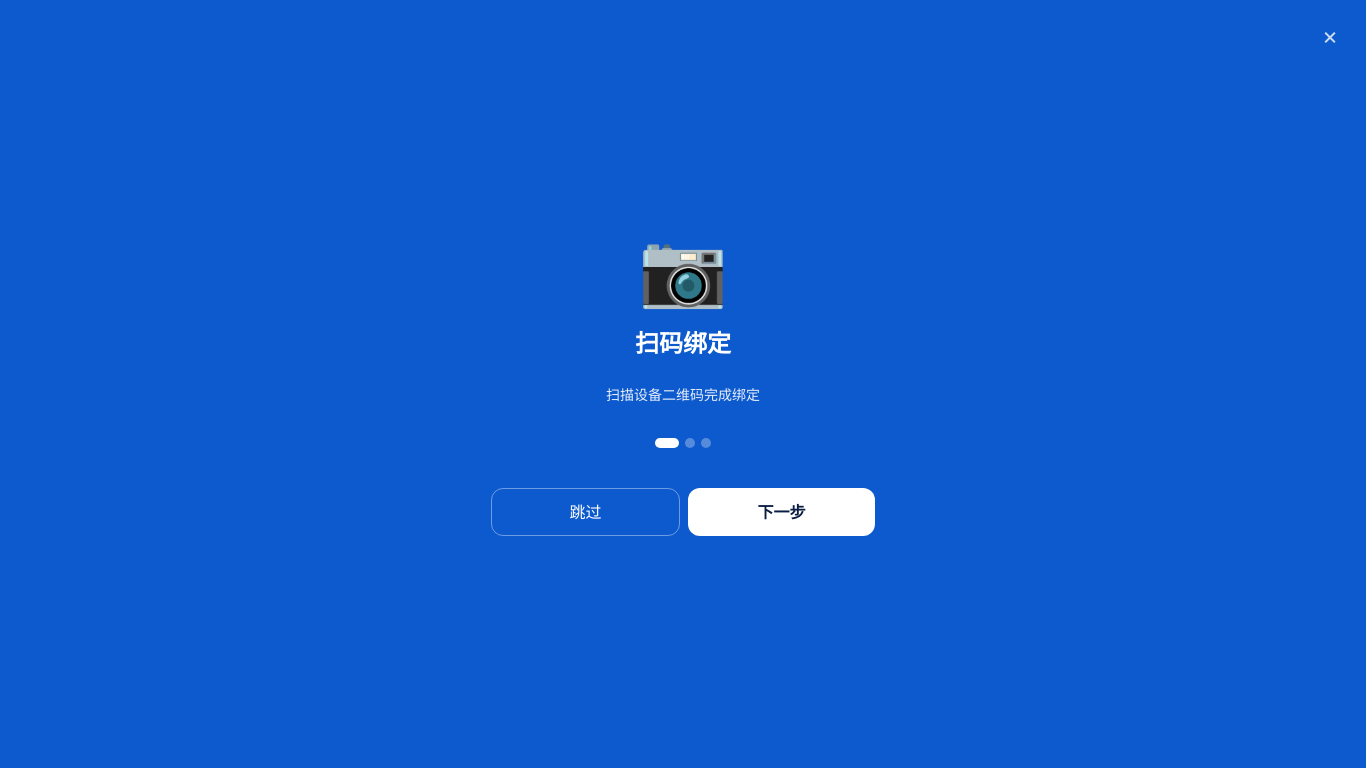
Scenario: Onboarding › 步骤导航:第一步 next → 第二步(图标切换 + 上一步出现),上一步返回
Check: the text "上一步" is not shown
Click the button "下一步" at [782, 512], box [688,488,875,536]
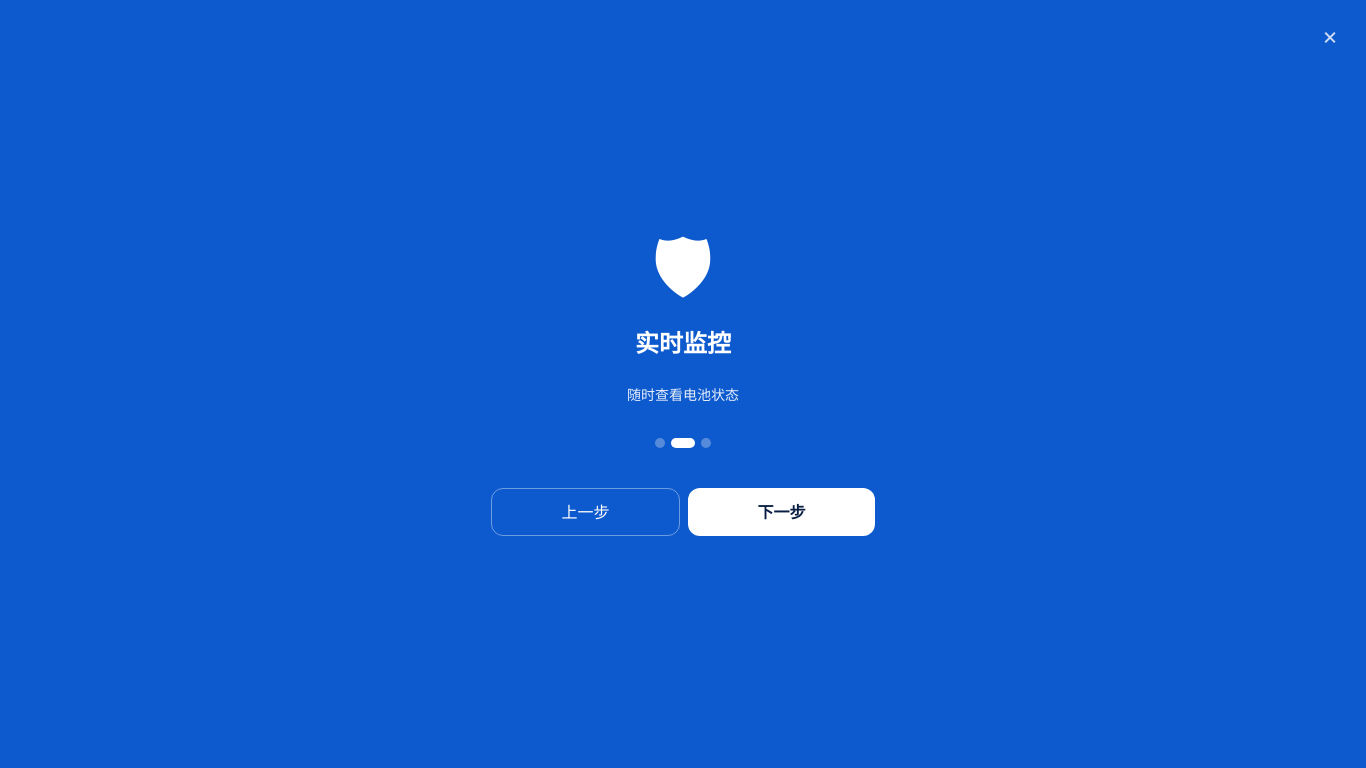
Check: the text "实时监控" is shown, box [635,329,731,358]
Check: the text "🛡" is shown, box [652,224,714,311]
Check: the text "上一步" is shown
Click the button "上一步" at [586, 512], box [491,488,680,536]
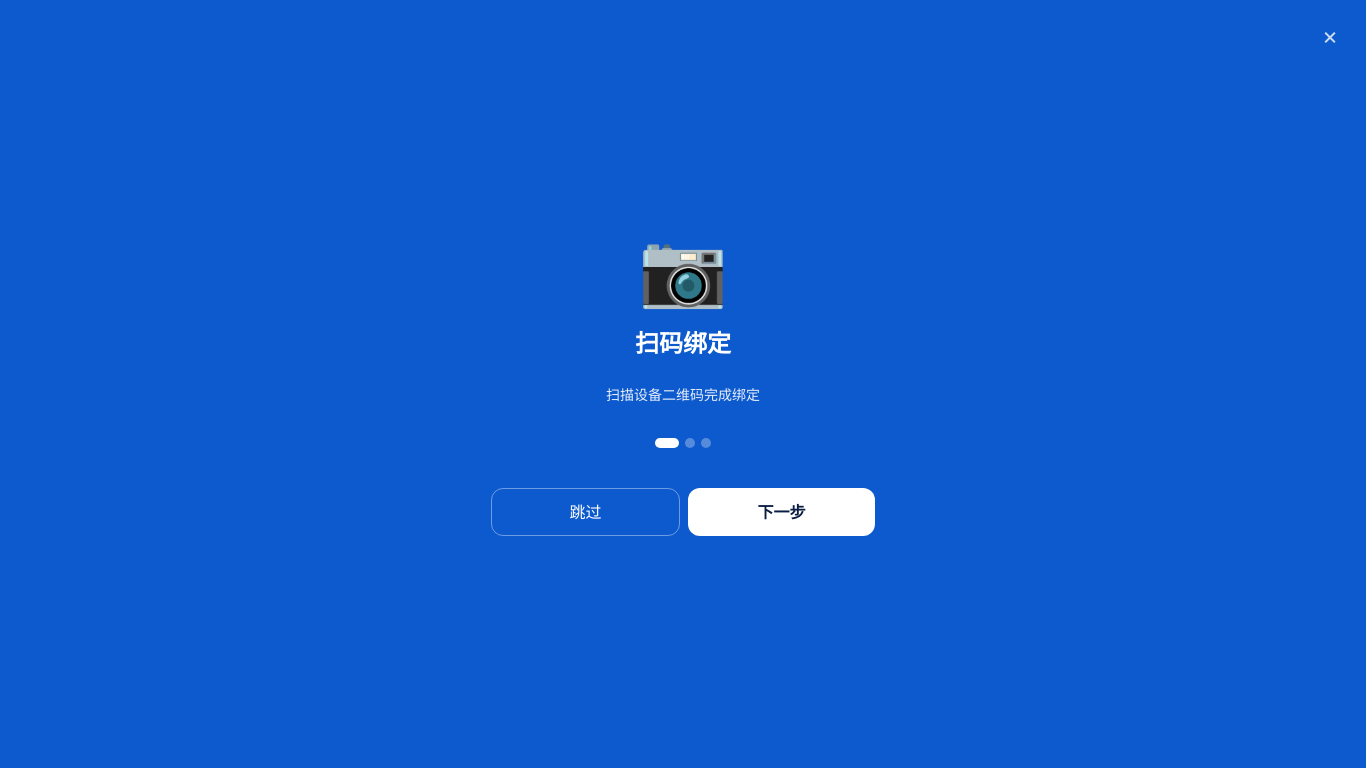
Check: the text "扫码绑定" is shown, box [635,329,731,358]
